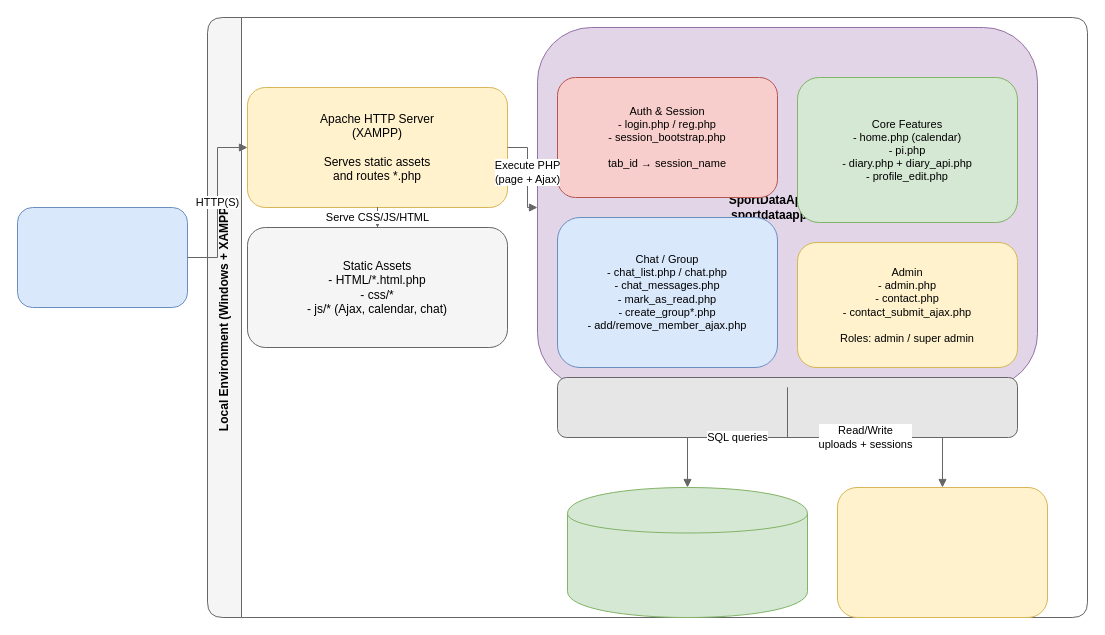
The diagram is 1105 pixels wide and 635 high, and some of its shapes have lost their labels. The shapes that lost their labels are listed below. From the top down, each one's centre as x and y in pixels, then its label:
At point 102,257: "User Browser (Chrome/Edge) UI: HTML/CSS/JS".
At point 787,407: "Sports Modules - swim/* - basketball_* - T_MNO/* (tennis)".
At point 687,552: "MySQL / MariaDB (XAMPP) DB: sportsdata Init: db/sportsdata.sql + db/add_*.sql".
At point 942,552: "File System (Server) - uploads/ (images etc.) - PHP sessions (file-based)".
